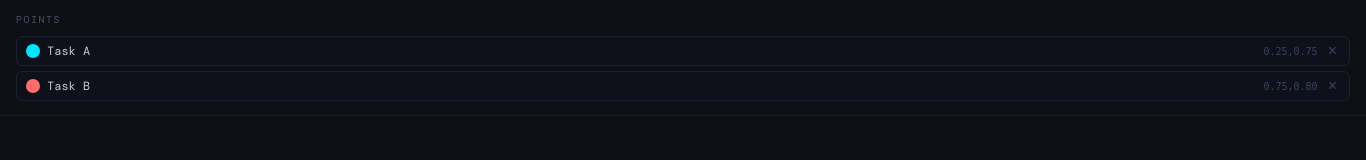
PointsList — rename › clicking a label shows a text input with the current label
Step 1. Click the text "Task A" → click(69, 51), box [47,43,90,59]
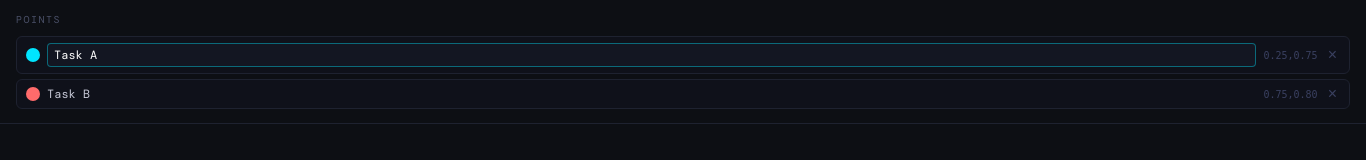
Result: the field showing "Task A" is shown at [47,43,1256,67]
